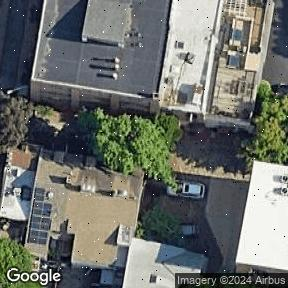vegetation: (74, 105, 183, 188), (133, 203, 192, 255), (253, 82, 288, 164), (0, 244, 42, 288), (0, 97, 29, 153)
